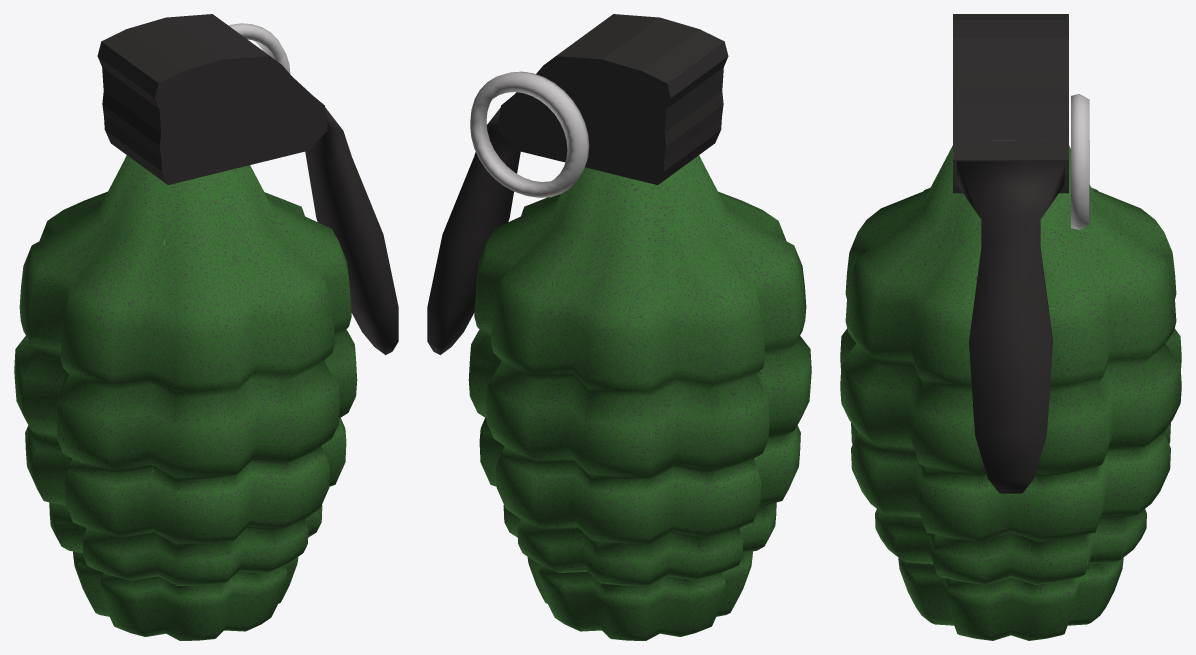
Rendered from grenade2.fbx.
The picture shows the model from 3 angles, left to right: view 1: azimuth 30°, elevation 25°; view 2: azimuth 150°, elevation 25°; view 3: azimuth 270°, elevation 25°; orthographic projection.
Visible parts, largest first — view 1: Grenade; view 2: Grenade; view 3: Grenade.
Part boxes in pixels (x1,y1,x2,y2): Grenade: [14, 14, 398, 640]; Grenade: [427, 14, 811, 640]; Grenade: [840, 14, 1181, 640].
Size of the model in its own units: 1.23 by 1.91 by 1.03.
